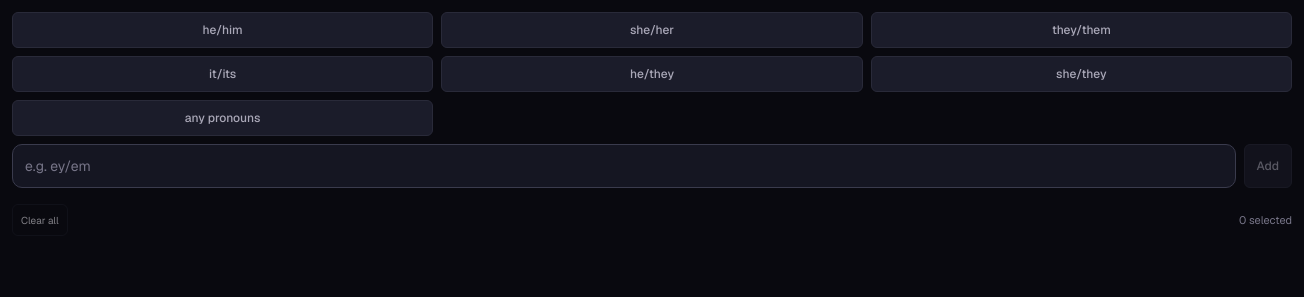
Test: PronounsPicker › adds a custom pronoun
Type "ey/em" into the field with placeholder "e.g. ey/em" at (624, 166), box x1=12 y1=144 x2=1236 y2=188
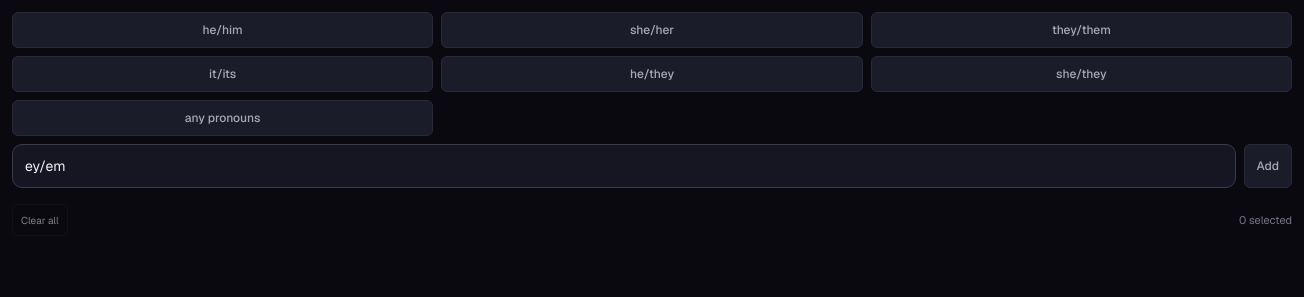
Press Enter in the field with placeholder "e.g. ey/em", box x1=12 y1=144 x2=1236 y2=188
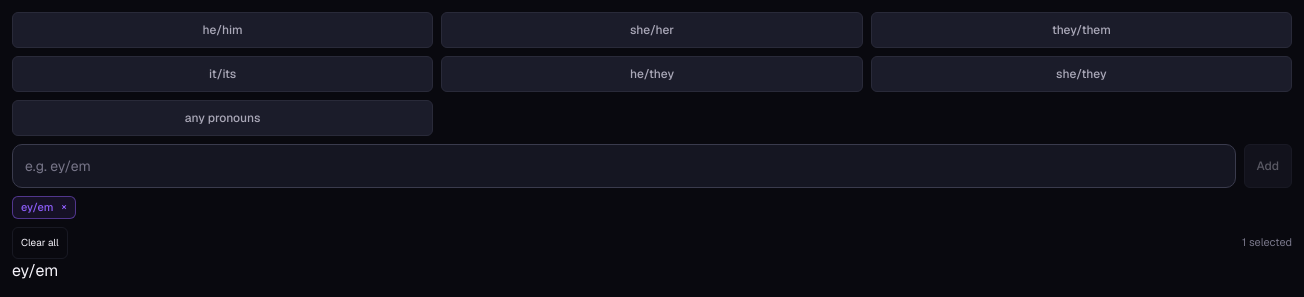
expect the text with test id "serialized" reads "ey/em": met, box x1=12 y1=260 x2=58 y2=280
